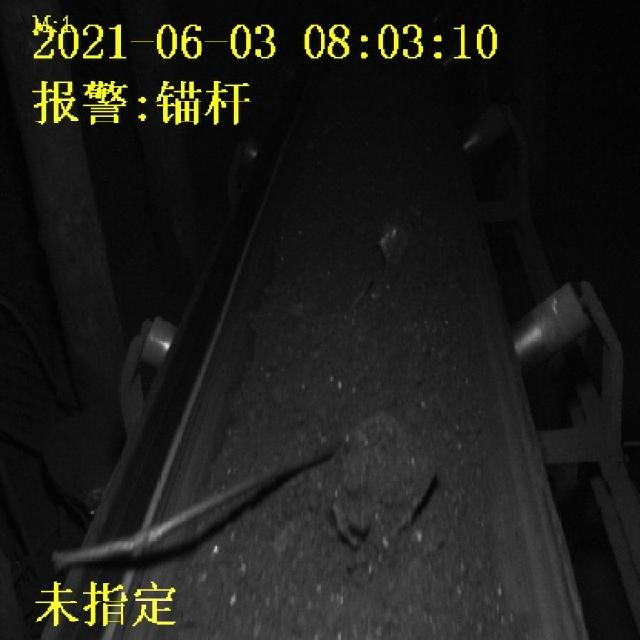bolt: (57, 436, 331, 566)
large_sized_coal: (328, 415, 432, 551), (377, 222, 415, 264)
